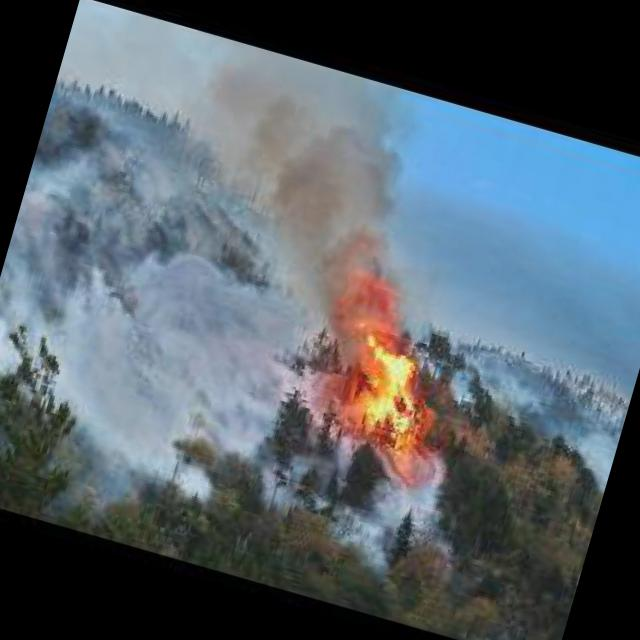fire: (354, 331, 438, 436)
smoke: (138, 31, 458, 342)
